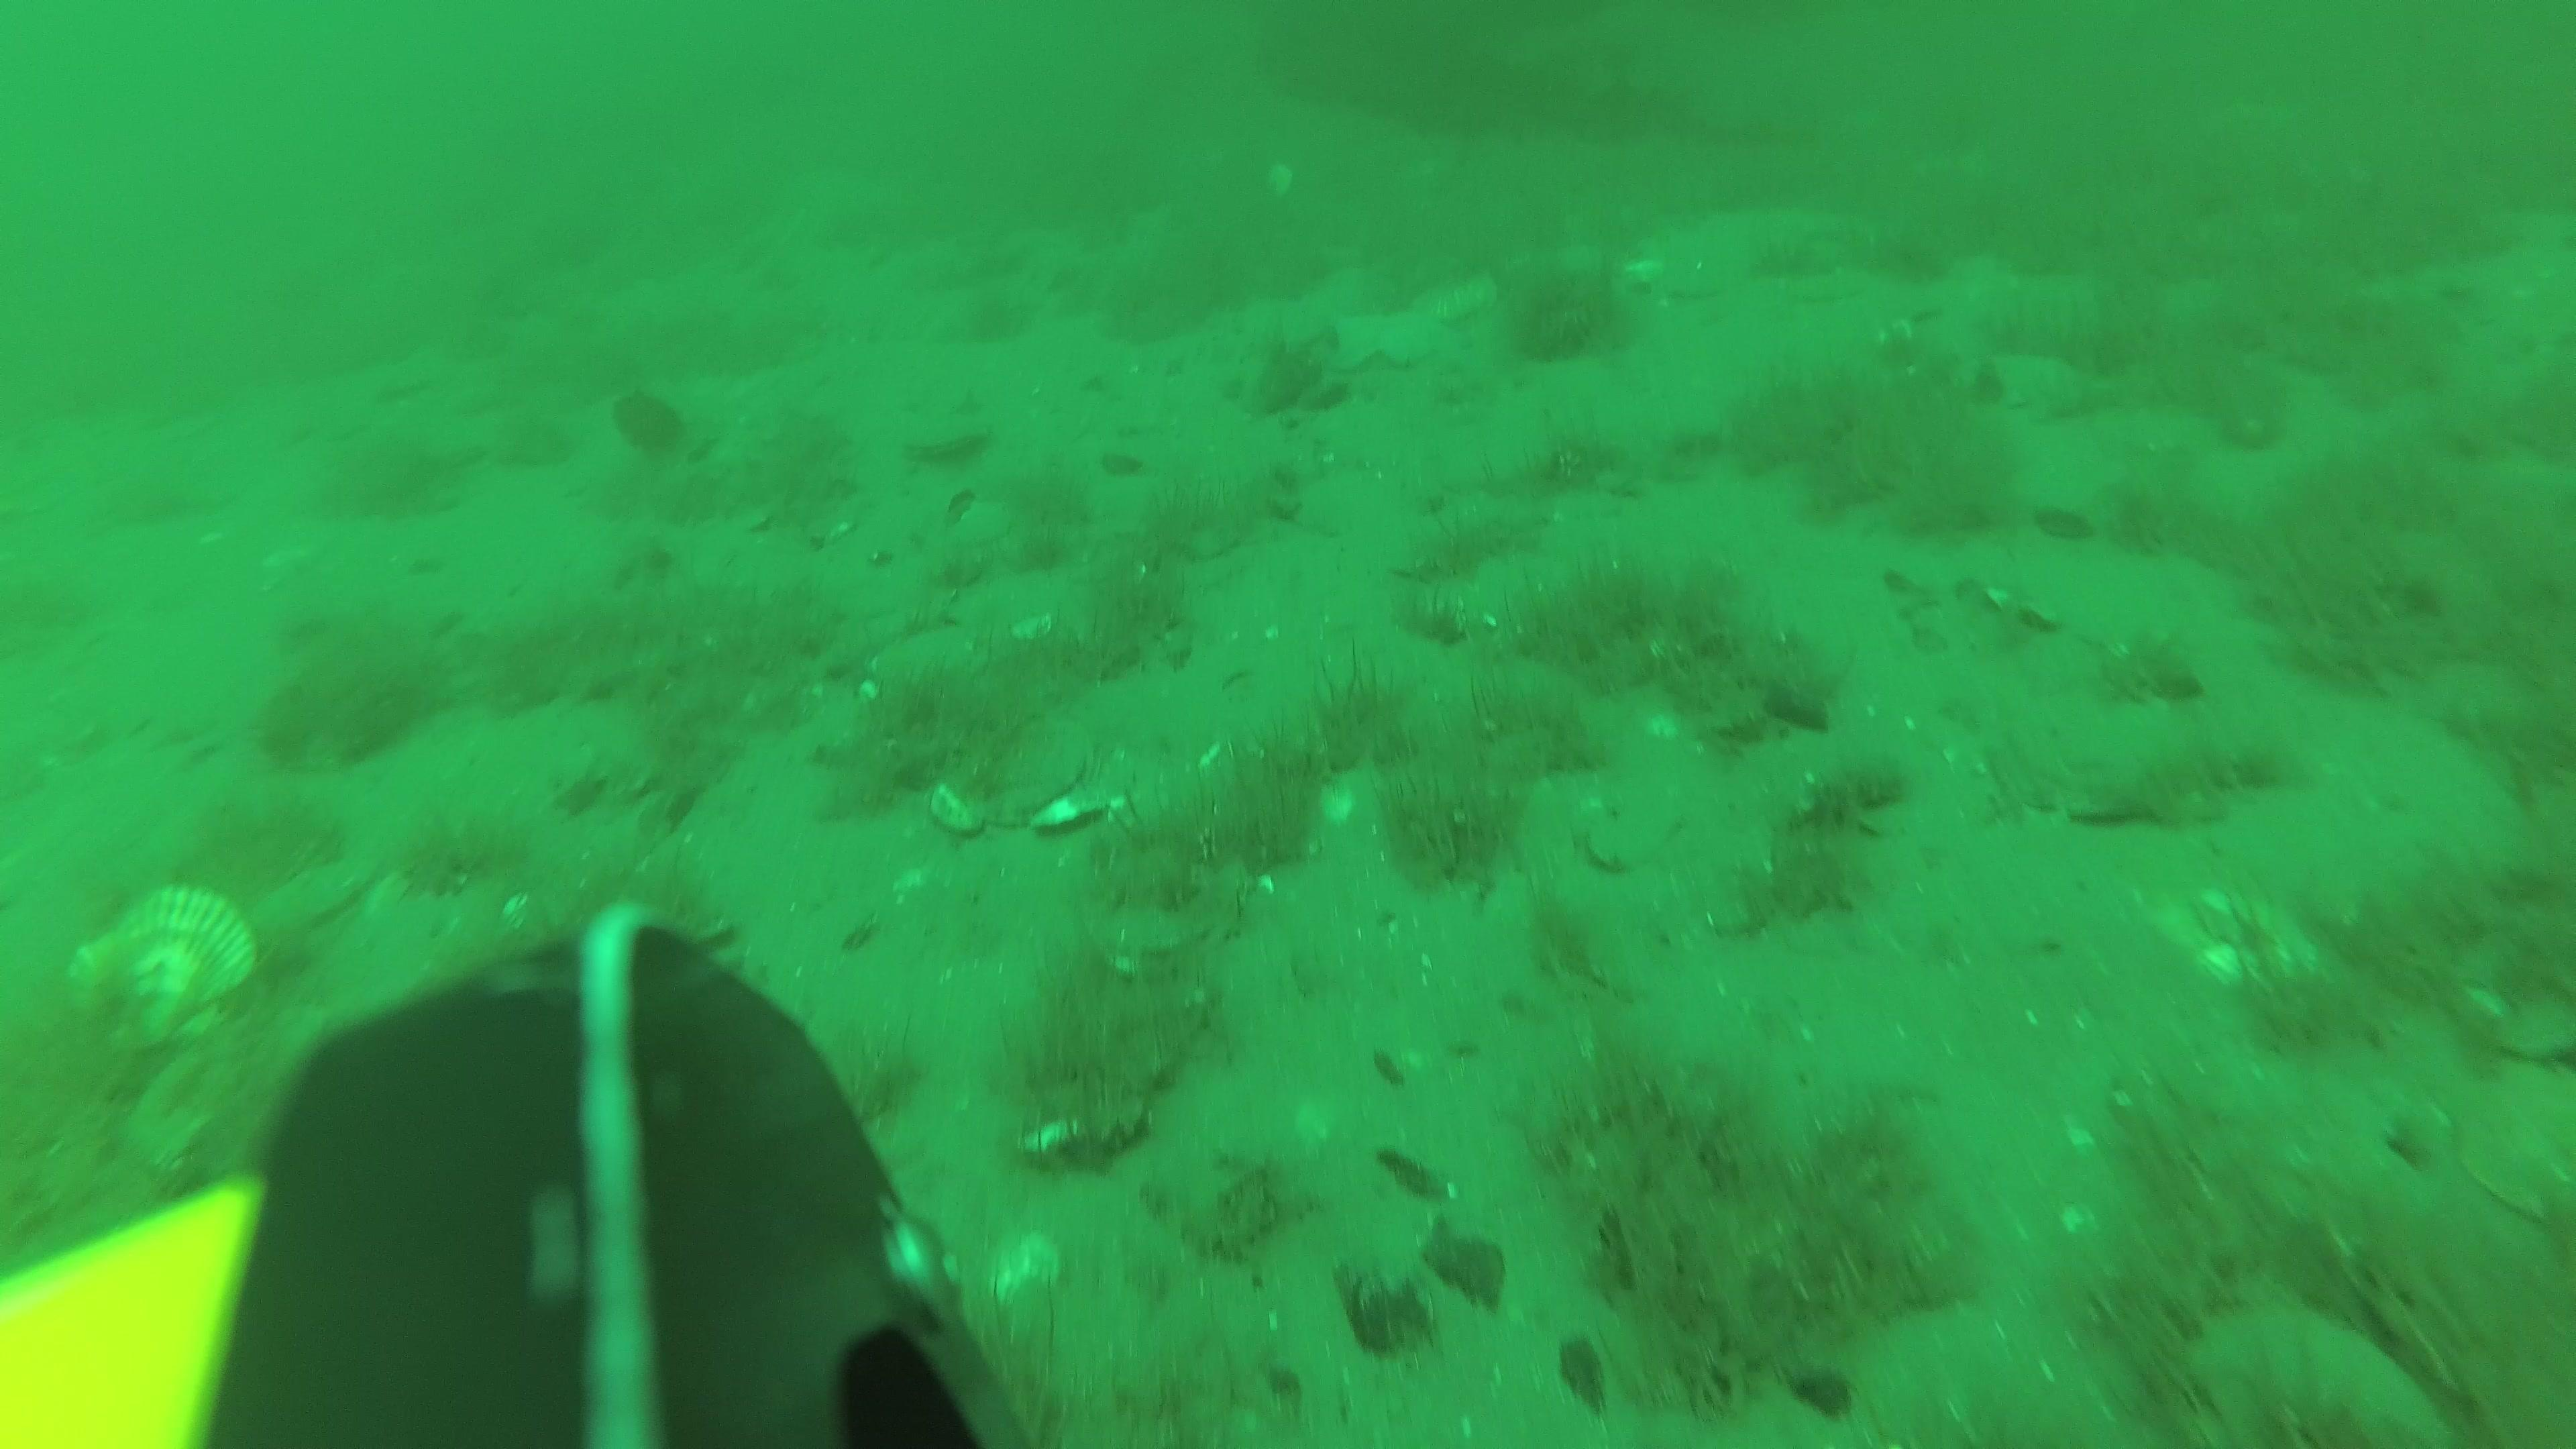scallop: (2171, 1293, 2449, 1449), (73, 888, 249, 1040), (2436, 1046, 2576, 1228), (924, 731, 1083, 830), (1946, 345, 2079, 414), (909, 410, 991, 460), (1435, 272, 1502, 318), (1267, 163, 1297, 202)
starfish: (1327, 301, 1454, 377)
